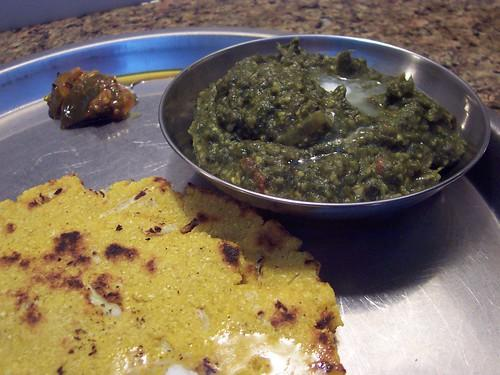saag: (186, 44, 469, 202)
